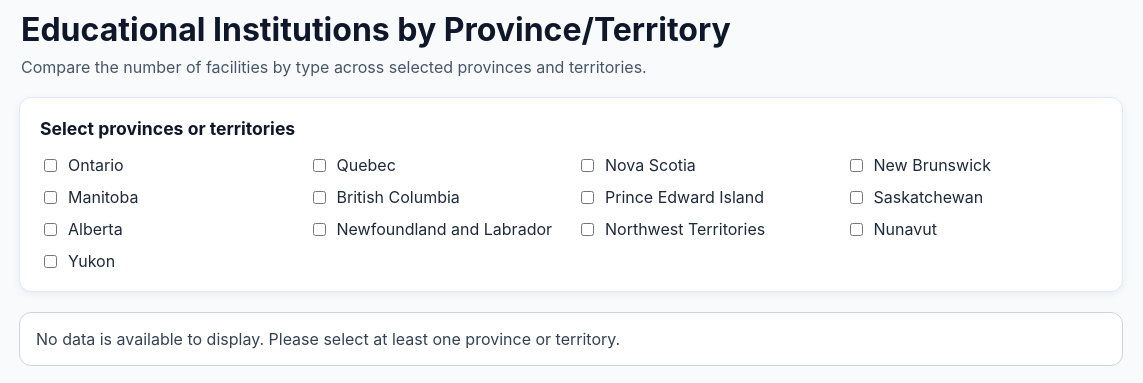
it: loading and error states › shows an error message when the API returns a non-OK response
The width and height of the screenshot is (1143, 383).
Click the checkbox labelled "Ontario". click: (50, 165)
box: [44,158,57,172]
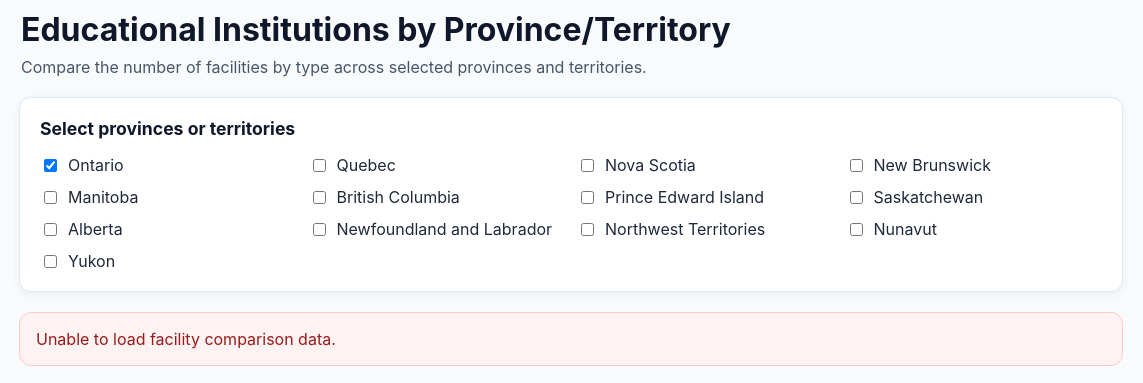
Expected: the text "Unable to load facility comparison data." is shown, [19,312,1123,366]
